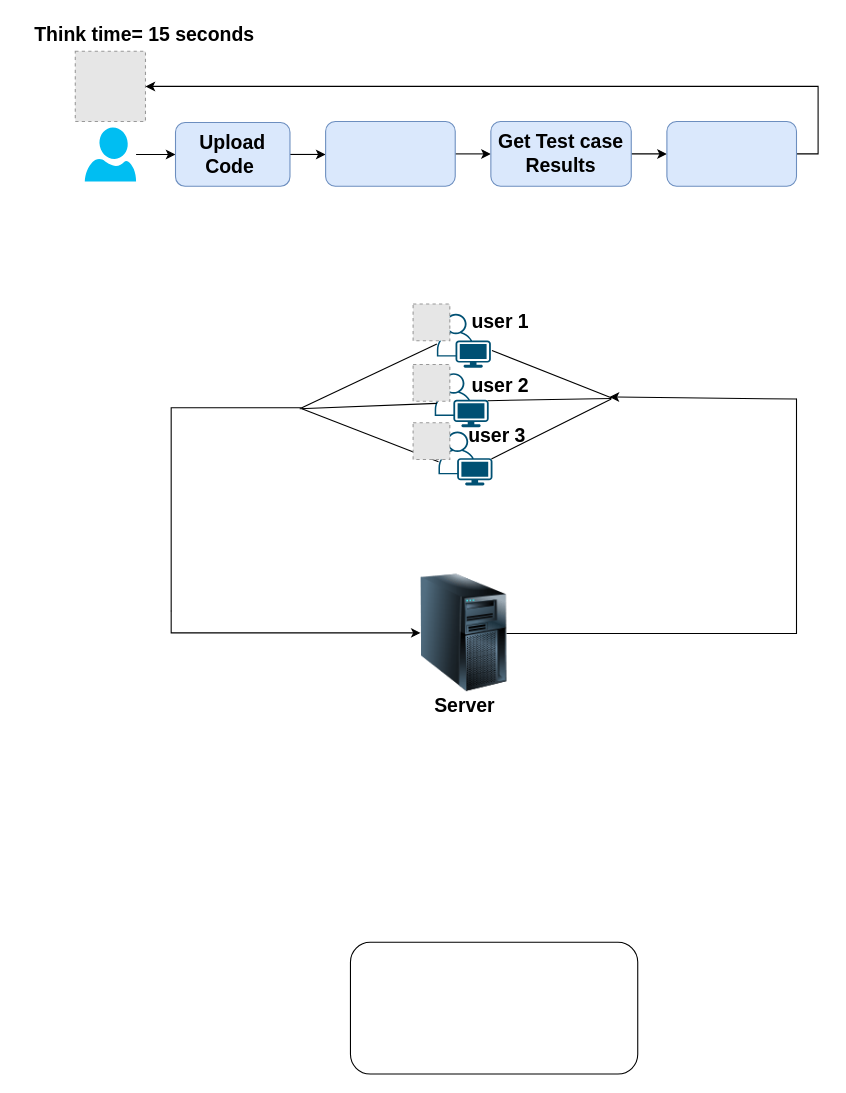
The diagram is 846 pixels wide and 1093 high, and some of its shapes have lost their labels. Grey dashed boxes stand in for pictures. The shapes that lost their labels are listed below. From the top down, each one's centre as x and y in pixels, then its label:
point (390, 153): Run Test cases
point (731, 153): Compare outputs
